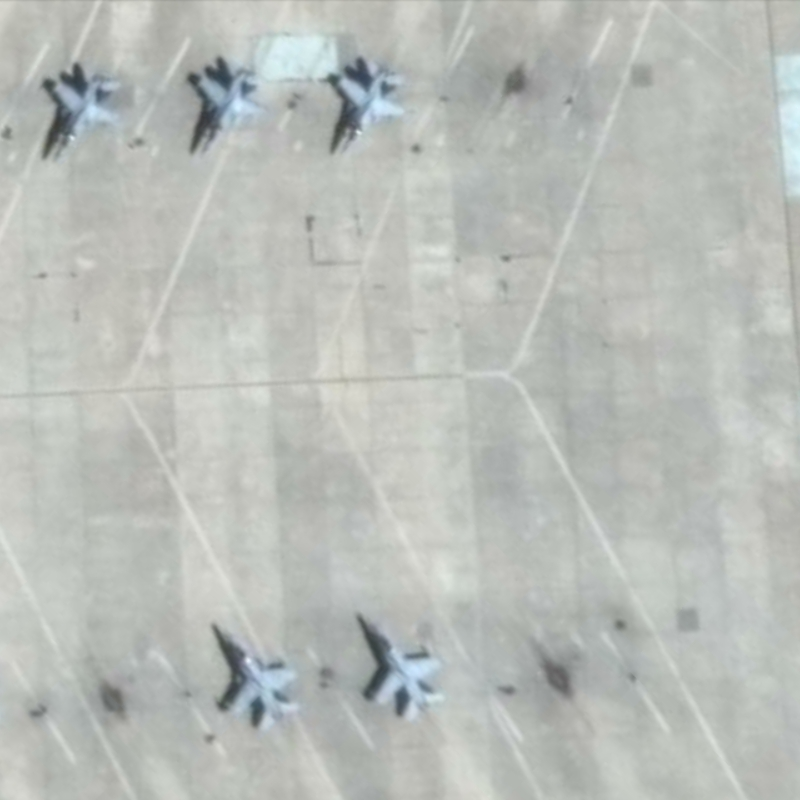A16: (203, 613, 306, 737), (350, 604, 448, 728), (323, 50, 412, 165), (37, 60, 126, 167), (186, 58, 267, 165)
